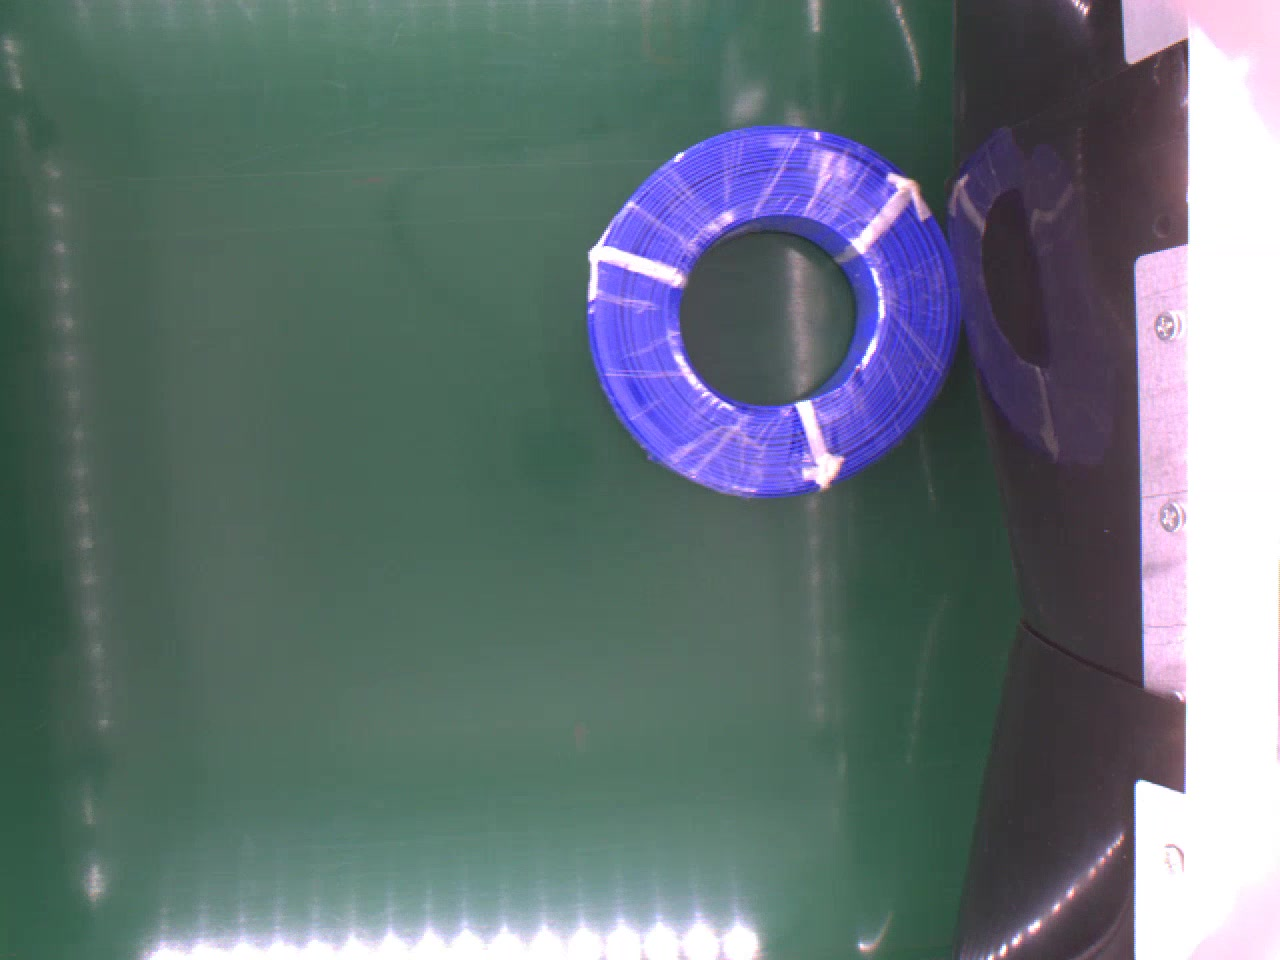blue: (586, 126, 962, 497)
